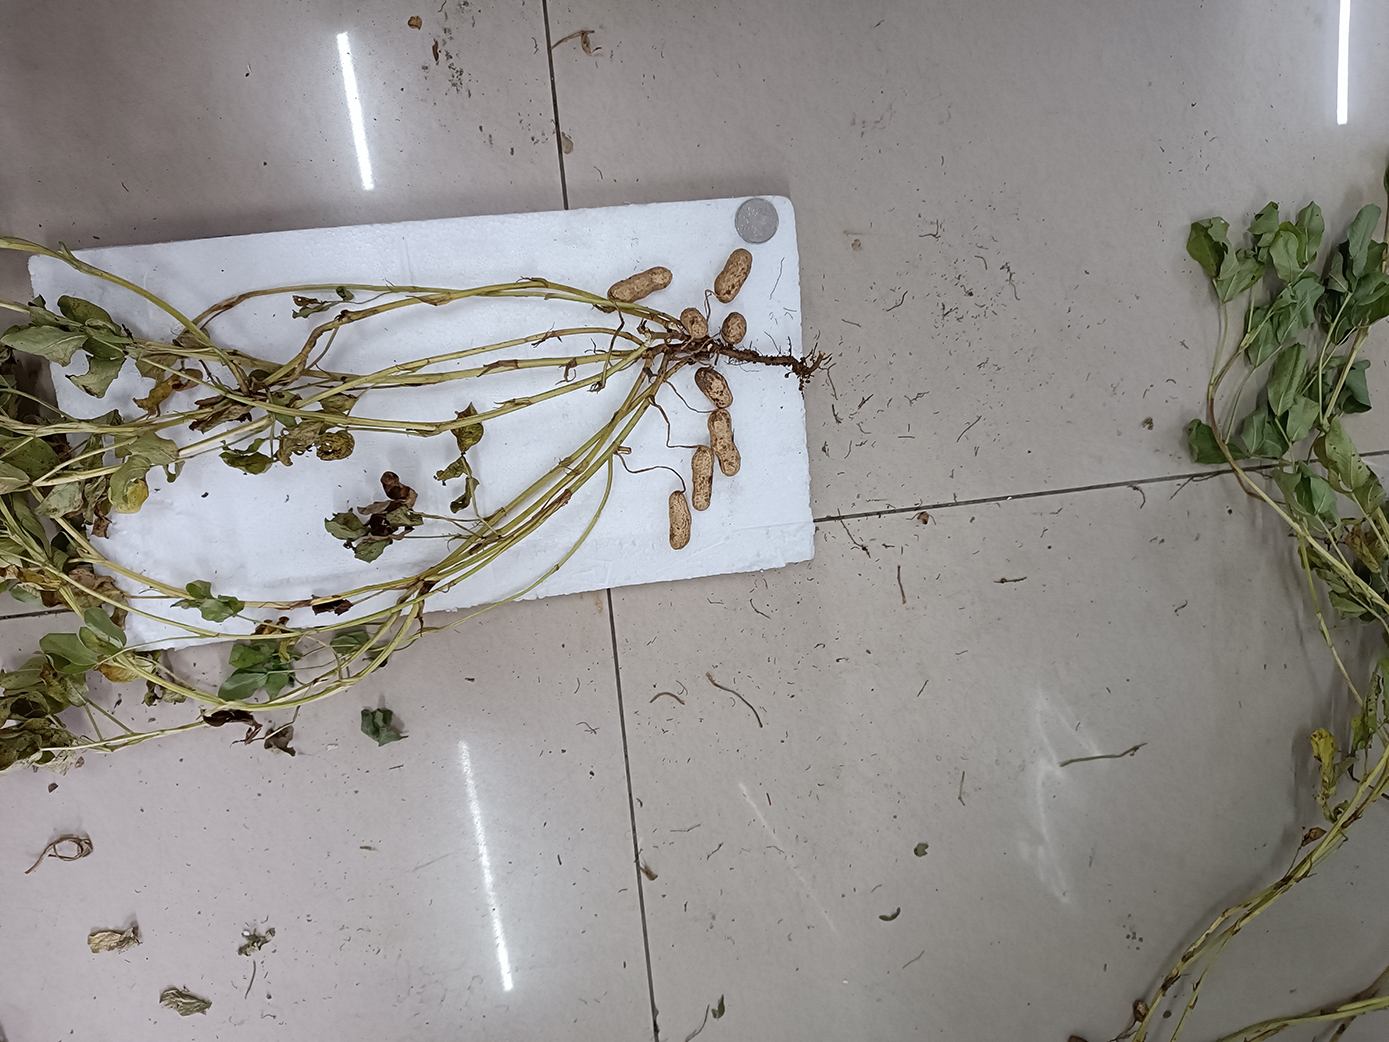h: (609, 266, 673, 304), (713, 248, 753, 304), (708, 412, 740, 477), (694, 369, 734, 409), (691, 447, 715, 511), (668, 491, 692, 549), (680, 306, 708, 338), (720, 311, 746, 343)
